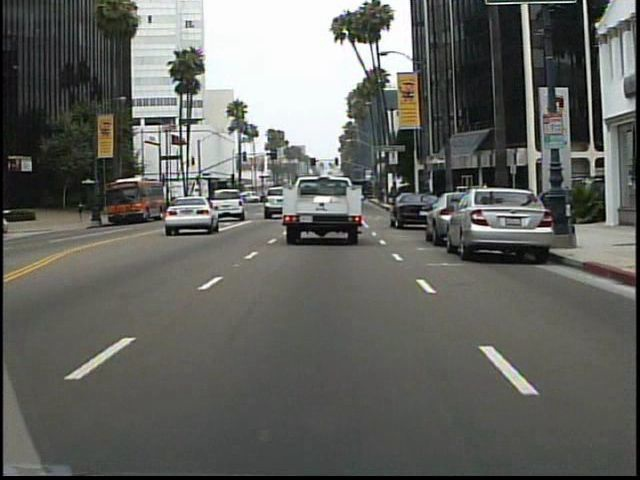person: (478, 179, 494, 220), (76, 195, 91, 229)
